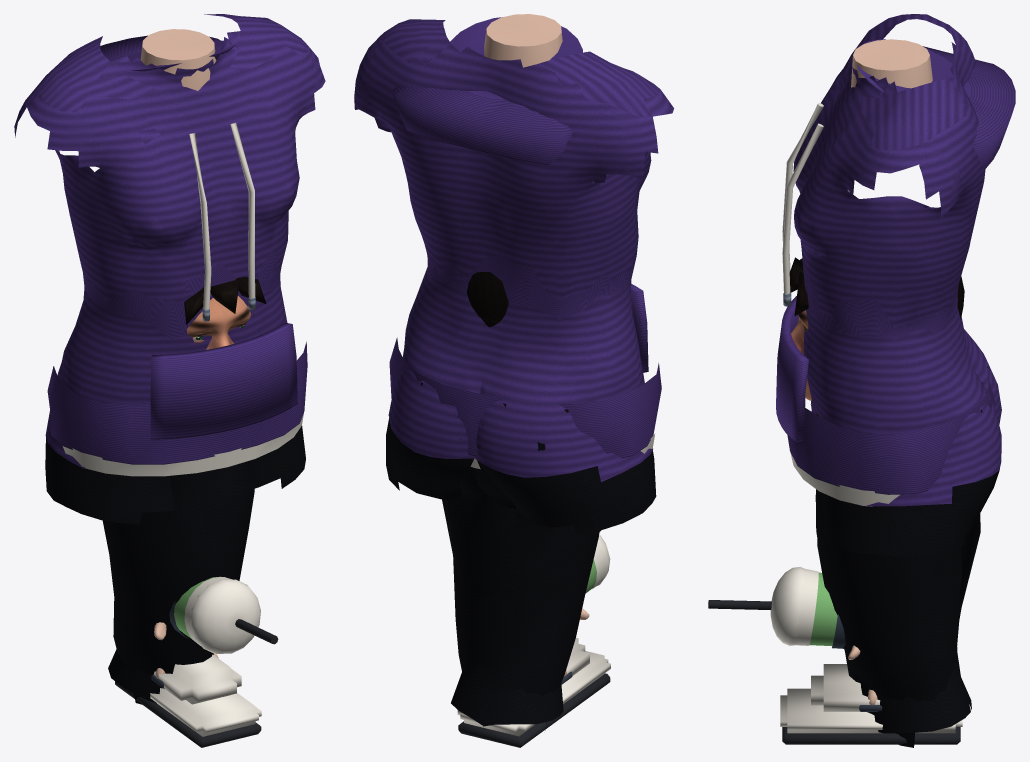
The picture shows the model from 3 angles, left to right: view 1: azimuth 30°, elevation 25°; view 2: azimuth 150°, elevation 25°; view 3: azimuth 270°, elevation 25°; orthographic projection. The views are drawn at different scales.
Visible parts, largest first — view 1: Torso, ThighL, ShinL, ForearmL, ThighR, Head; view 2: Torso, ThighL, ThighR, ShinL, Head, ForearmL; view 3: Torso, ThighR, ShinL, ForearmL, ThighL, Head.
Boxes of the visible parts, <box> form: Torso: <box>14,14,325,524</box>; ThighL: <box>102,468,227,704</box>; ShinL: <box>115,654,261,747</box>; ForearmL: <box>154,576,278,678</box>; ThighR: <box>108,461,254,703</box>; Head: <box>184,276,266,349</box>; Torso: <box>354,14,673,534</box>; ThighL: <box>451,462,599,730</box>; ThighR: <box>442,469,563,726</box>; ShinL: <box>445,500,610,747</box>; Head: <box>466,272,508,327</box>; ForearmL: <box>564,530,610,676</box>; Torso: <box>776,14,1015,556</box>; ThighR: <box>815,489,971,747</box>; ShinL: <box>780,513,980,744</box>; ForearmL: <box>708,567,845,648</box>; ThighL: <box>810,404,970,733</box>; Head: <box>789,257,964,416</box>.
Size of the model in its own units: 0.4827 by 1.05 by 0.431.
Materials: 12 (6 with a texture image).
